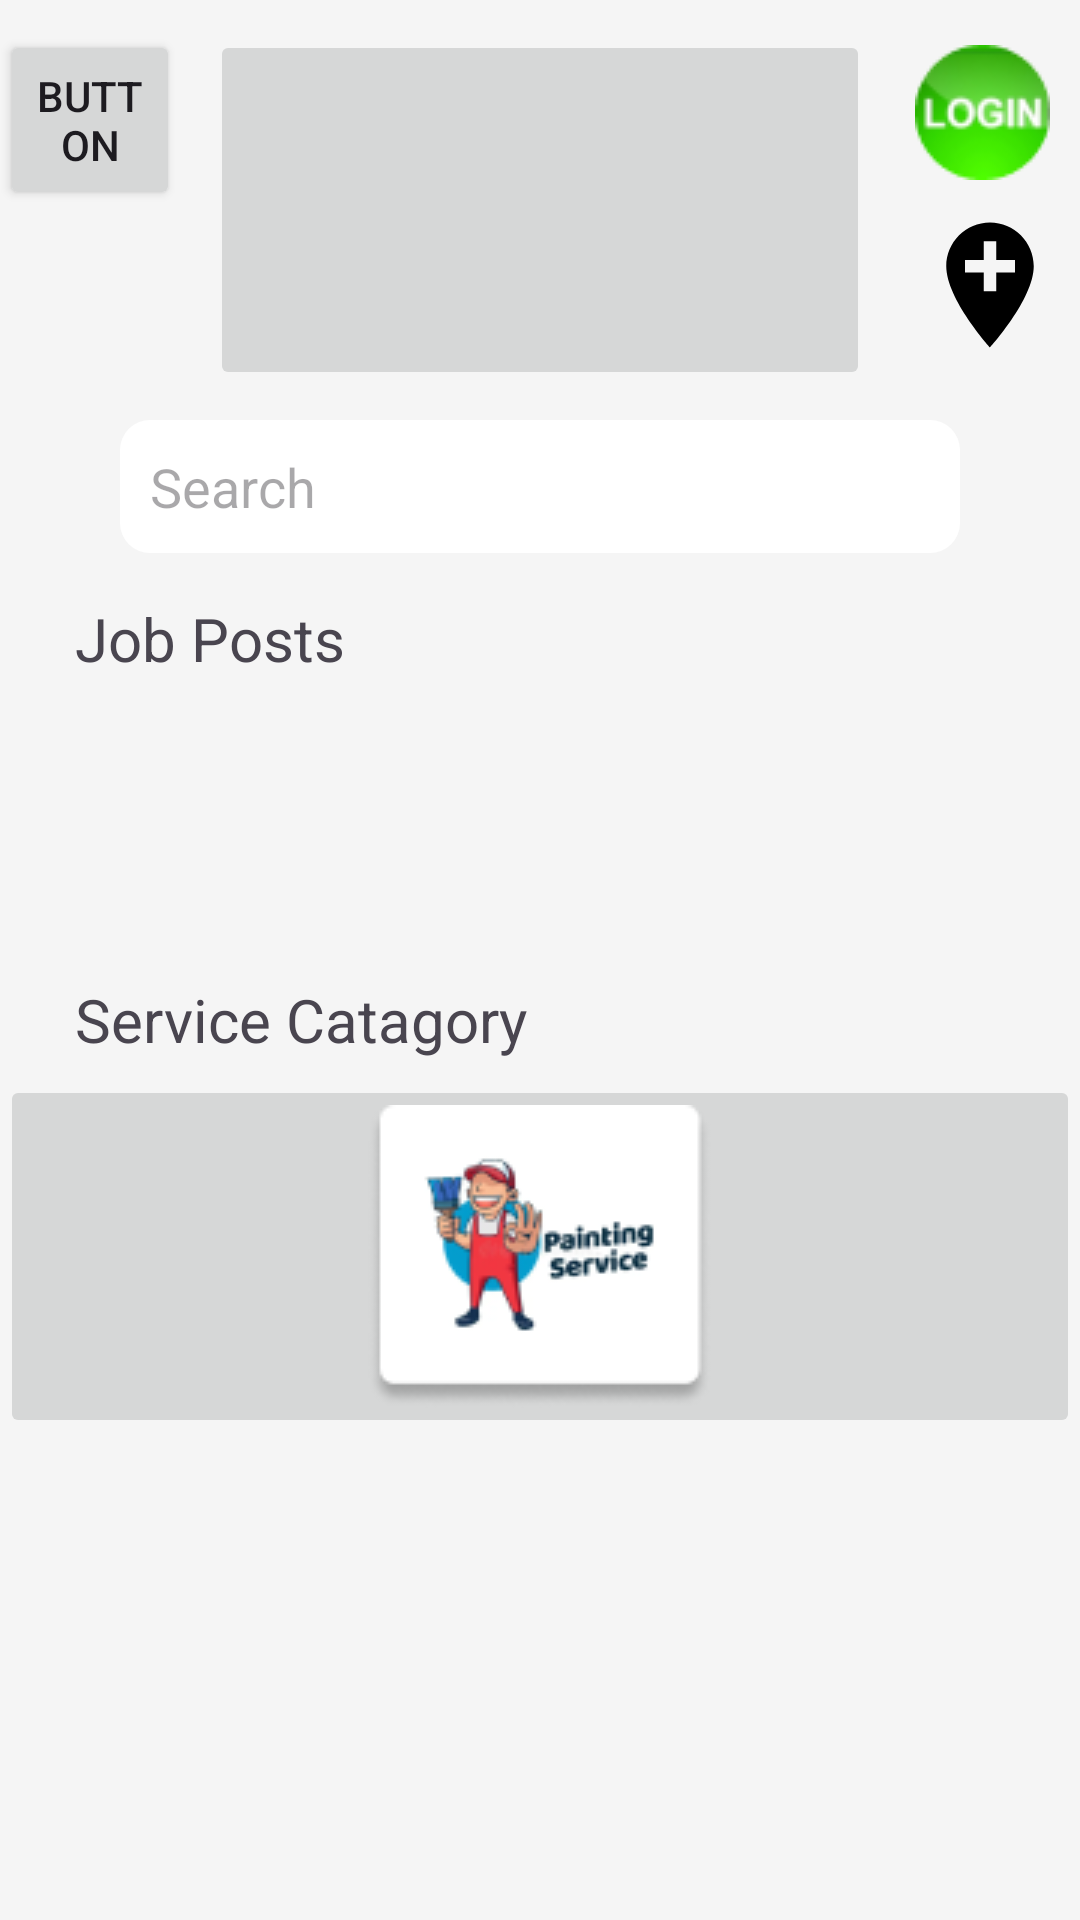

Named icons in this screenshot (1080 × 1920) and their centers, point (x, y):
add location: point (990, 285)
